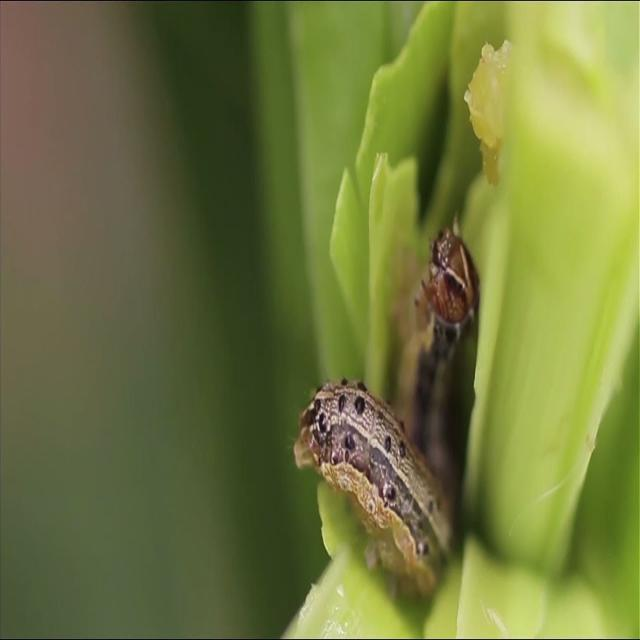worm: (294, 376, 455, 603)
